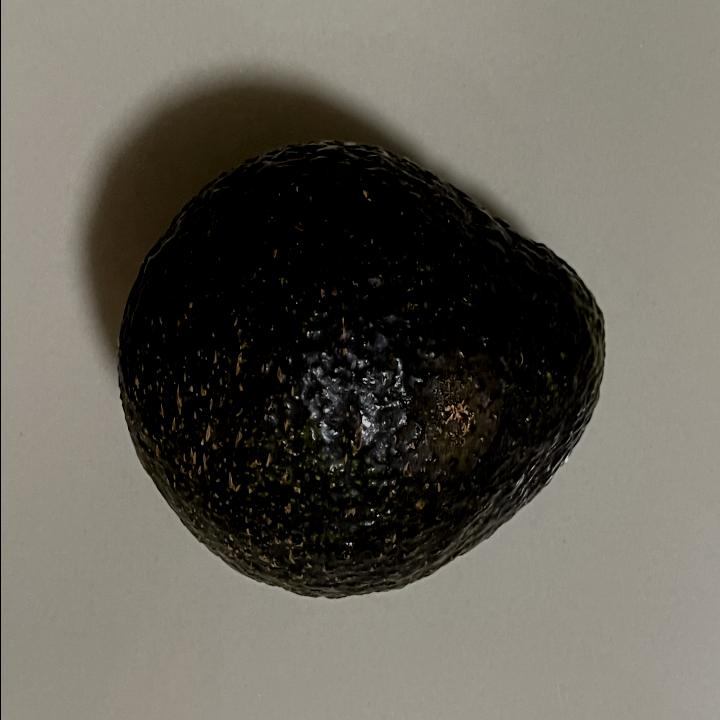Level2: (107, 130, 614, 608)
